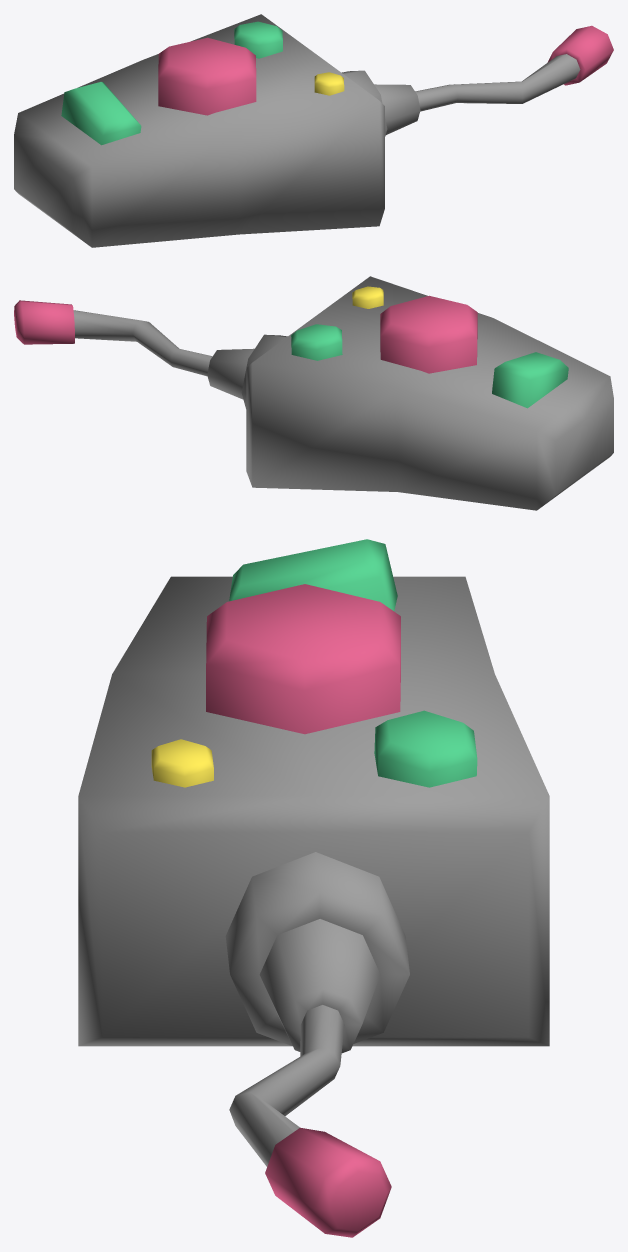
Rendered from props_remote.fbx.
The picture shows the model from 3 angles, top to bottom: view 1: azimuth 30°, elevation 25°; view 2: azimuth 150°, elevation 25°; view 3: azimuth 270°, elevation 25°; orthographic projection. The views are drawn at different scales.
Visible parts, largest first — view 1: remote; view 2: remote; view 3: remote.
Part boxes in pixels (x1=…): remote: x1=14, y1=14, x2=613, y2=247; remote: x1=14, y1=276, x2=613, y2=510; remote: x1=78, y1=539, x2=549, y2=1237.
Size of the model in its own units: 1.29 by 0.4633 by 0.3398.
